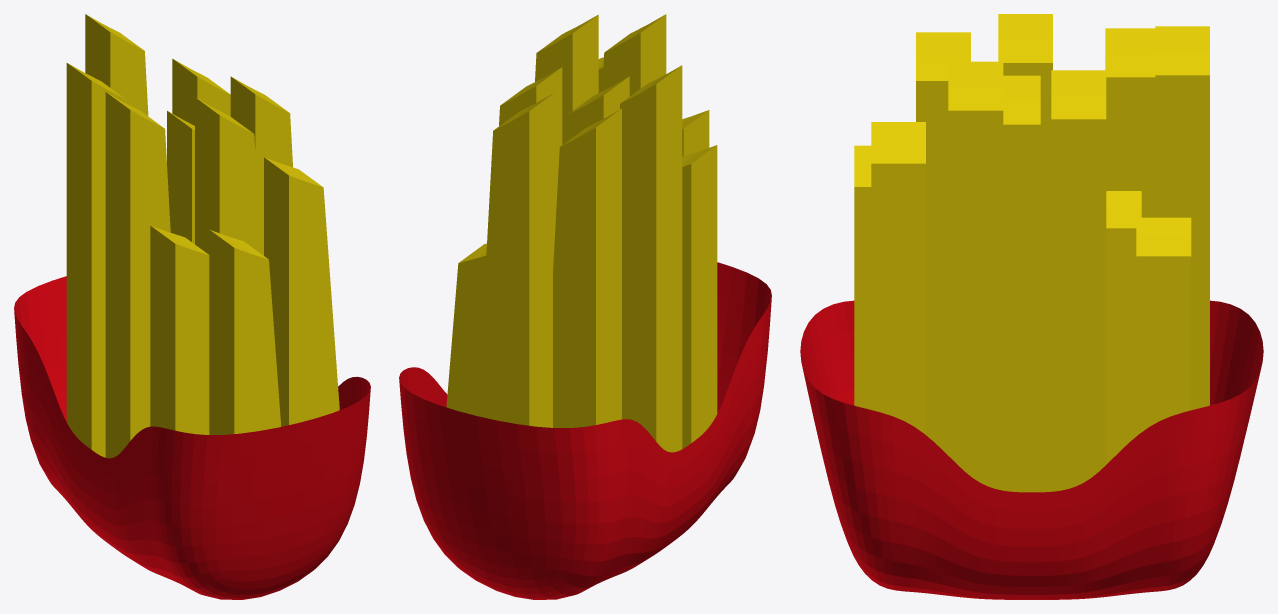
Rendered from FrenchFries.fbx.
The picture shows the model from 3 angles, left to right: view 1: azimuth 30°, elevation 25°; view 2: azimuth 150°, elevation 25°; view 3: azimuth 270°, elevation 25°; orthographic projection. The views are drawn at different scales.
Parts seen in each view (by area): view 1: Cube, Cube.011, Cube.008, Cube.010, Cube.005, Cube.012, Cube.002, Cube.006, Cube.004, Cube.001, Cube.007; view 2: Cube, Cube.011, Cube.004, Cube.010, Cube.012, Cube.009, Cube.006, Cube.002, Cube.007, Cube.001, Cube.005; view 3: Cube, Cube.006, Cube.007, Cube.008, Cube.001, Cube.004, Cube.009, Cube.002, Cube.010, Cube.011, Cube.003, Cube.005.
Part boxes in pixels (<box>): Cube: <box>14,276,370,599</box>; Cube.011: <box>105,92,170,458</box>; Cube.008: <box>264,157,339,426</box>; Cube.010: <box>66,63,126,457</box>; Cube.005: <box>209,229,281,434</box>; Cube.012: <box>150,225,209,434</box>; Cube.002: <box>195,97,260,254</box>; Cube.006: <box>230,76,292,255</box>; Cube.004: <box>85,14,148,115</box>; Cube.001: <box>167,111,194,244</box>; Cube.007: <box>172,58,230,125</box>; Cube: <box>399,262,771,599</box>; Cube.011: <box>620,65,682,452</box>; Cube.004: <box>477,92,555,427</box>; Cube.010: <box>553,108,621,427</box>; Cube.012: <box>682,145,717,448</box>; Cube.009: <box>446,243,486,415</box>; Cube.006: <box>535,14,598,144</box>; Cube.002: <box>602,14,666,96</box>; Cube.007: <box>499,67,562,225</box>; Cube.001: <box>566,76,629,141</box>; Cube.005: <box>682,110,709,156</box>; Cube: <box>800,300,1263,599</box>; Cube.006: <box>948,61,1003,490</box>; Cube.007: <box>1051,70,1106,491</box>; Cube.008: <box>871,122,925,434</box>; Cube.001: <box>1003,75,1040,492</box>; Cube.004: <box>1155,26,1209,410</box>; Cube.009: <box>1136,217,1191,436</box>; Cube.002: <box>916,32,970,455</box>; Cube.010: <box>1105,28,1155,217</box>; Cube.011: <box>998,14,1052,492</box>; Cube.003: <box>1106,191,1141,464</box>; Cube.005: <box>854,145,871,409</box>.
Bounding box in the file's own units: 200 × 458 × 355.
